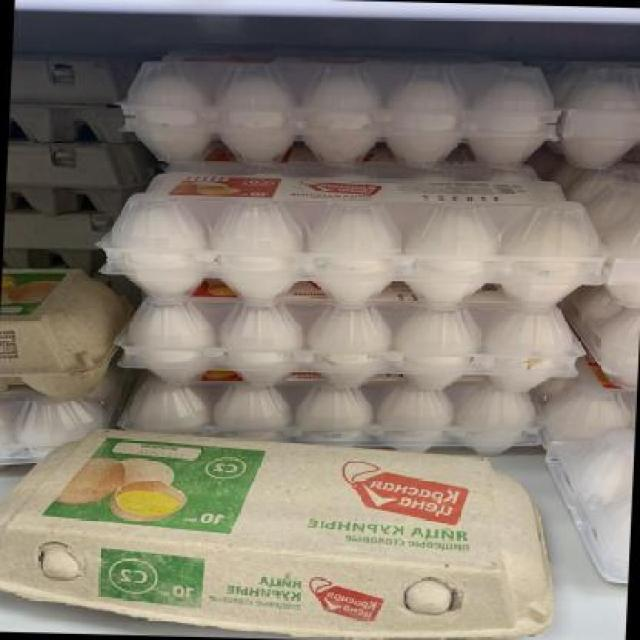egg: (0, 427, 567, 640), (104, 168, 610, 312), (0, 264, 130, 404), (542, 427, 634, 585), (9, 46, 142, 148), (6, 140, 138, 216), (2, 212, 106, 274)
